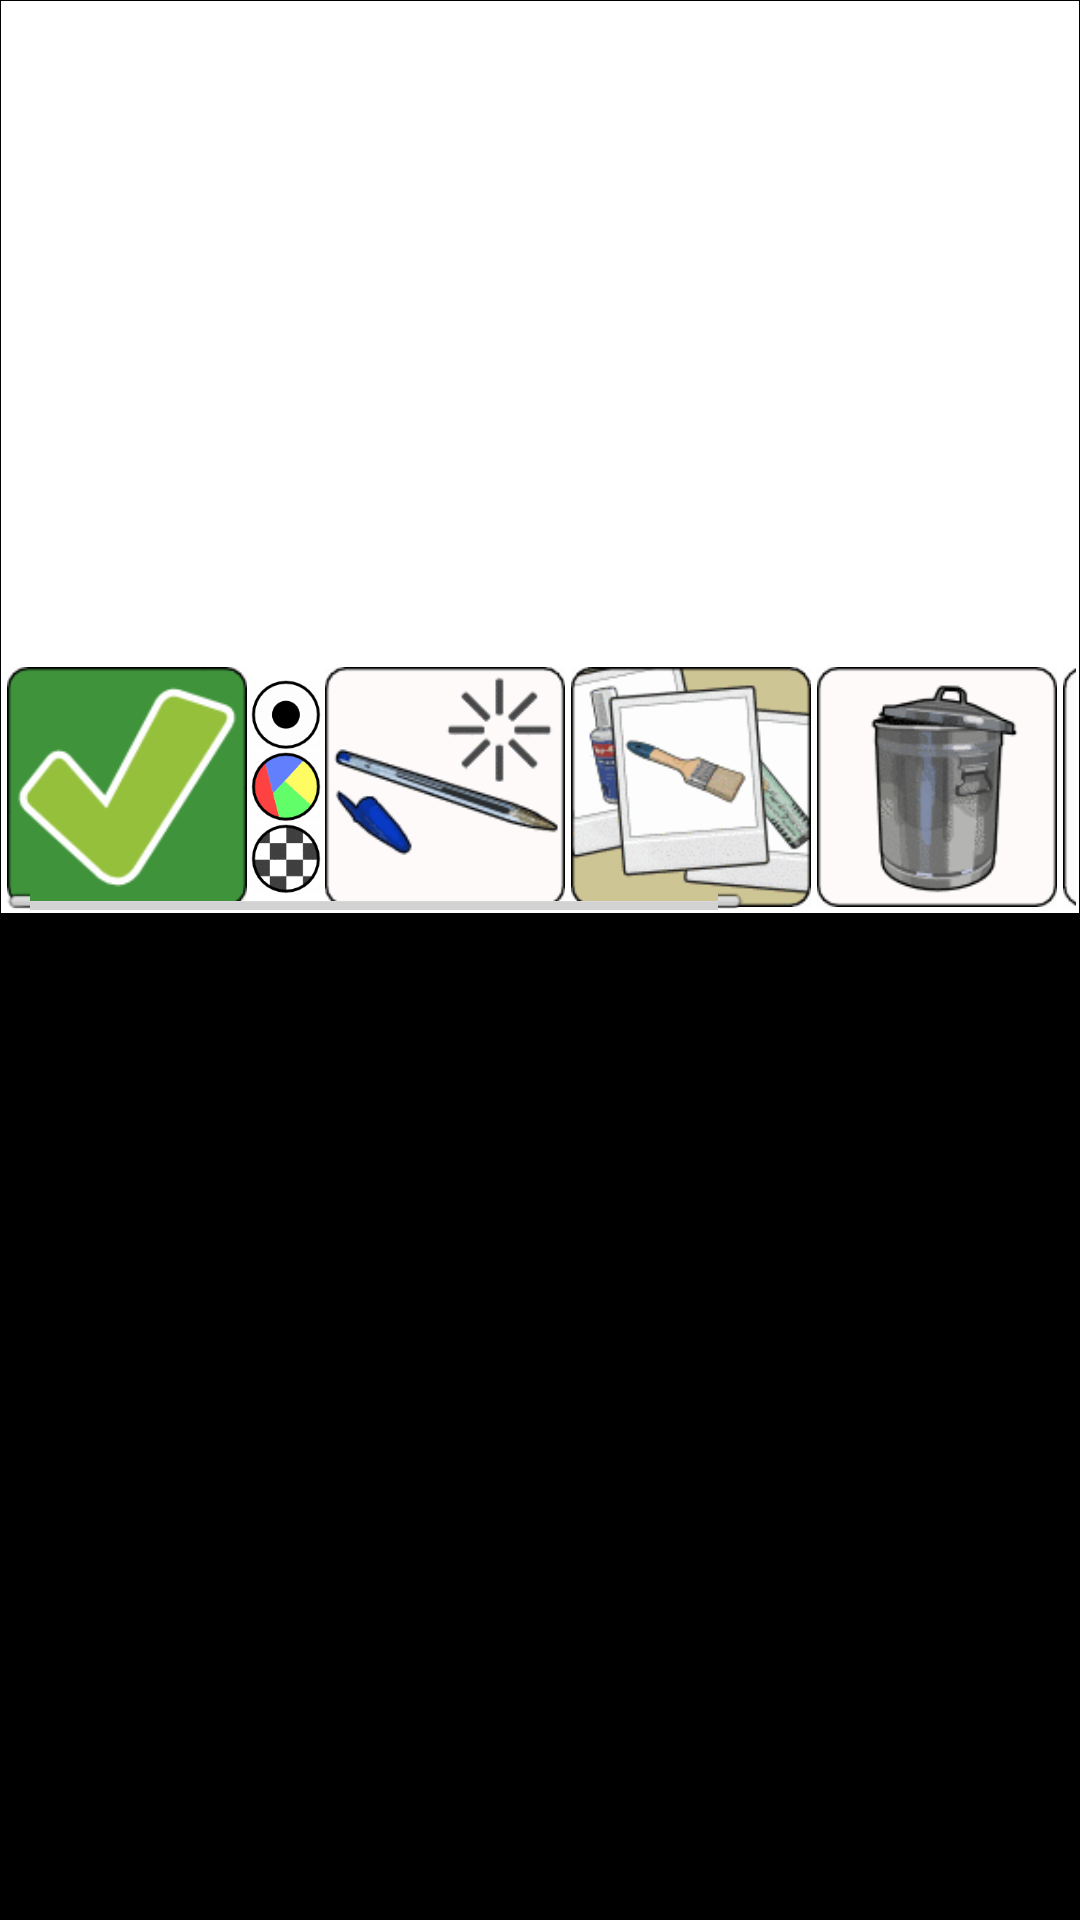

Screen size 1080px×1920px. Icon name, then its center in pixels as [x,y]:
desktopbrush: [285,714]
desktopcolor: [285,786]
desktoppattern: [285,858]
iconnewpreset: [446,766]
icontrashbin: [937,787]
iconvalidon: [128,788]
